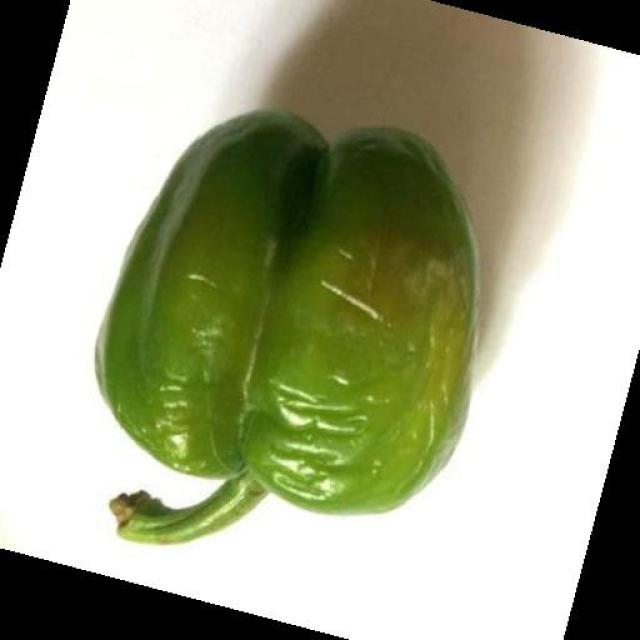Stale_Capsicum: (86, 114, 482, 509)
